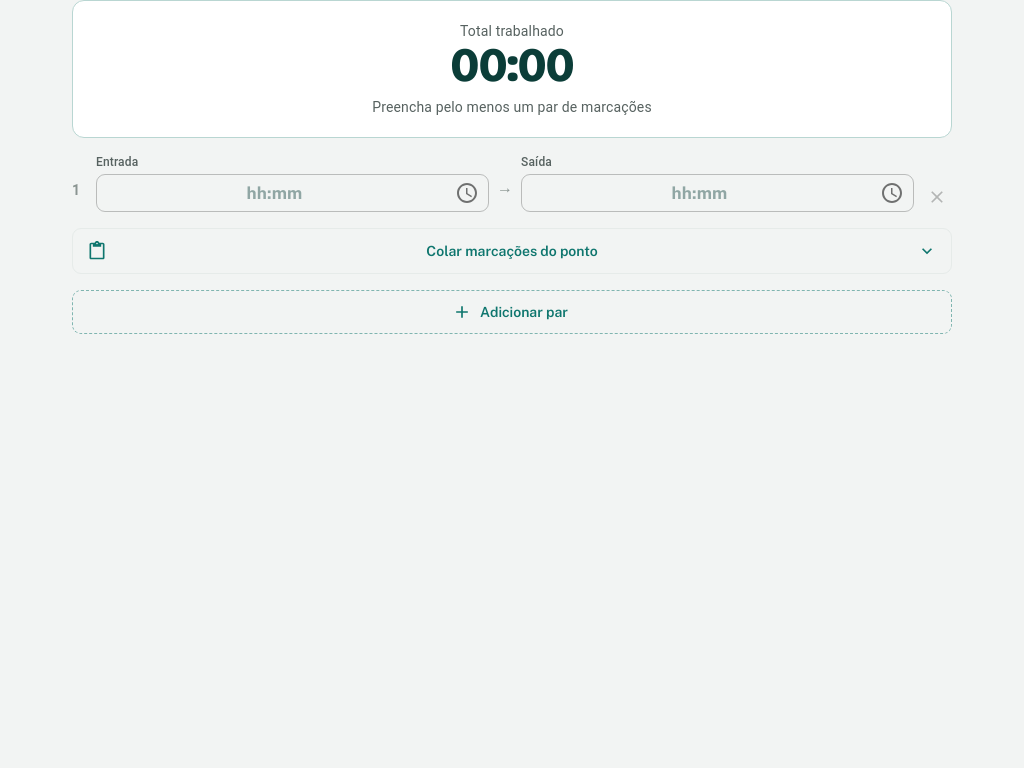
Test: TempoTotal › stops at six pairs
Click the button "Adicionar par" at (512, 312), box [72, 290, 952, 334]
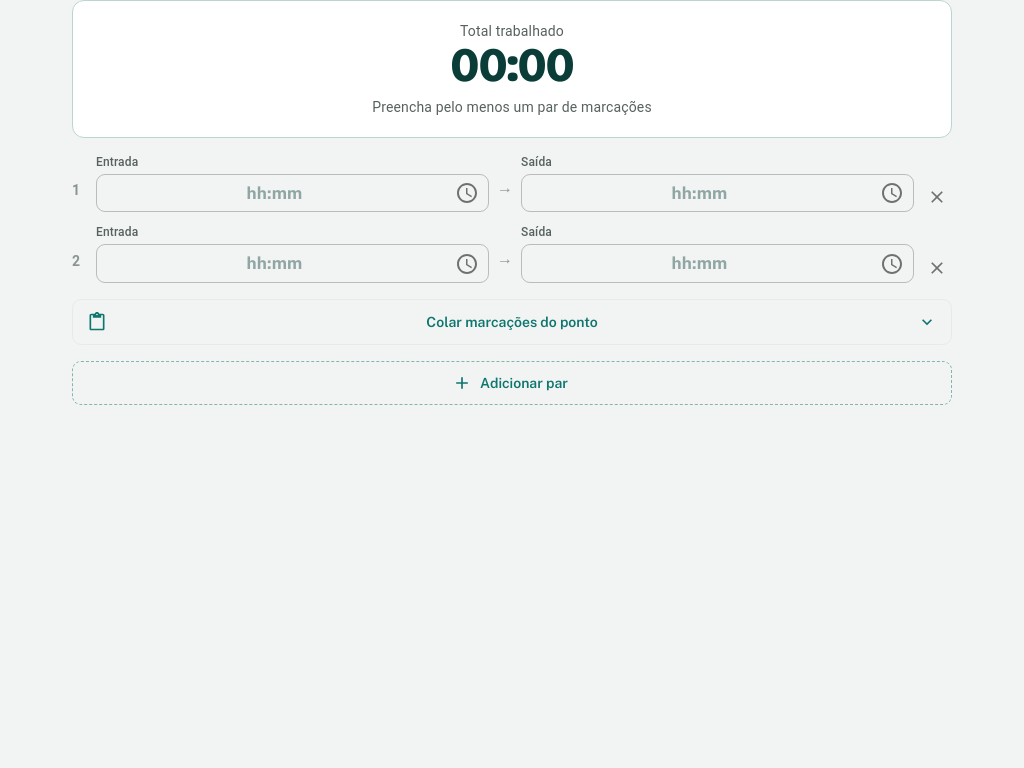
Click the button "Adicionar par" at (512, 383), box [72, 361, 952, 405]
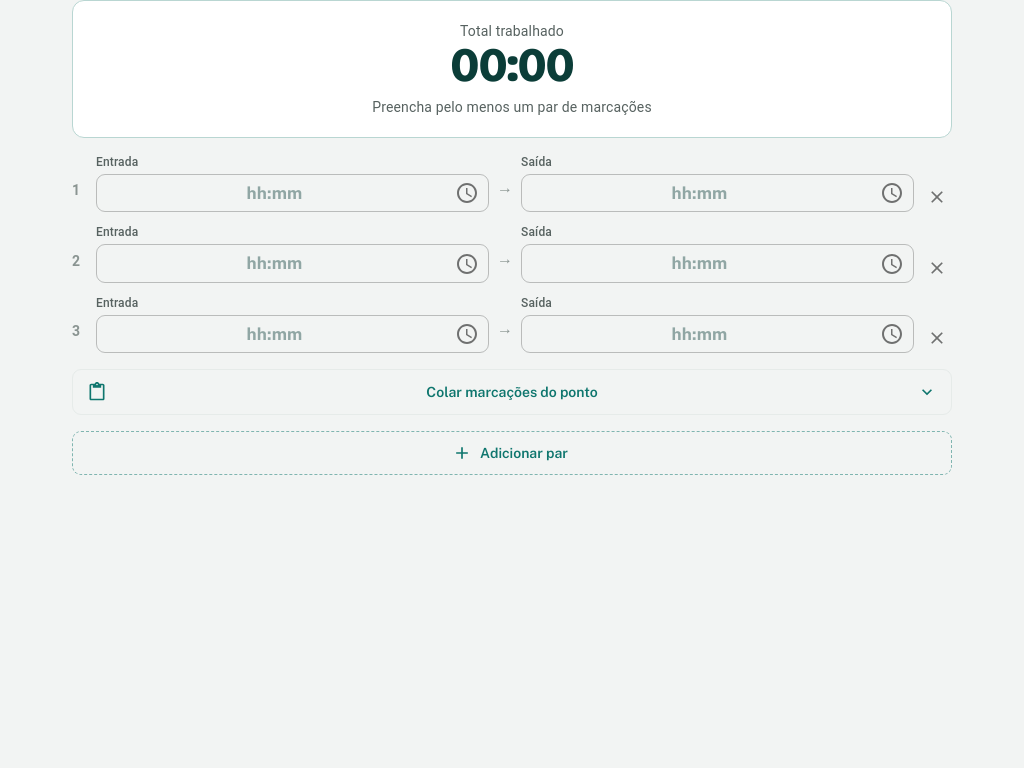
Click the button "Adicionar par" at (512, 453), box [72, 431, 952, 475]
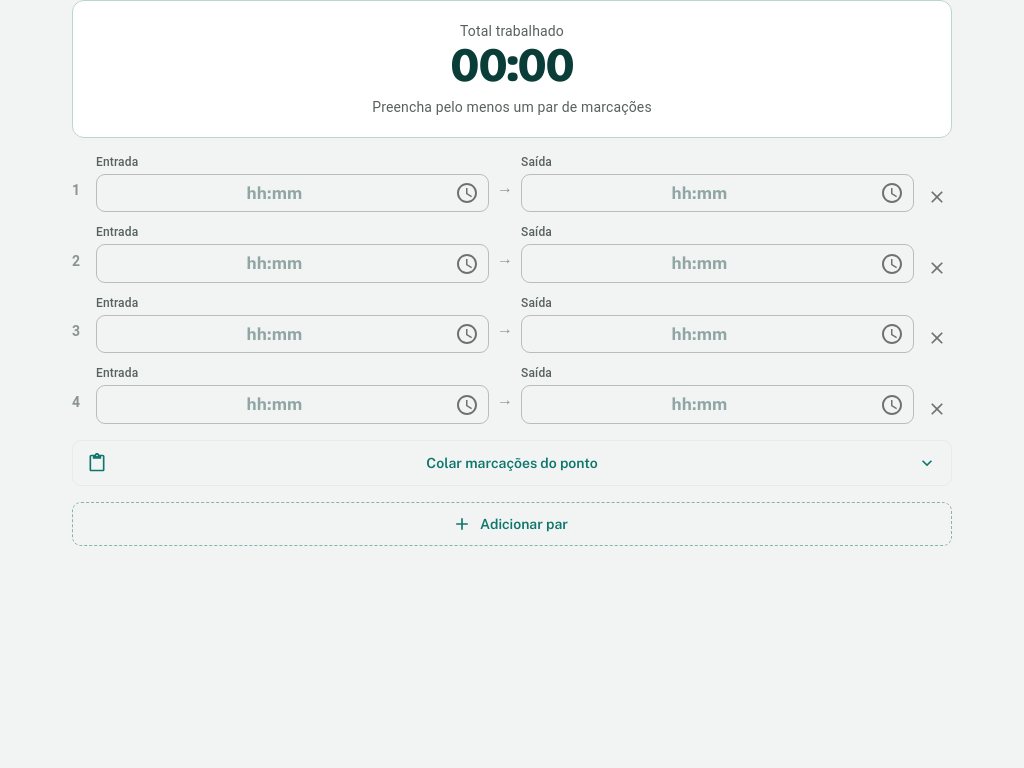
Click the button "Adicionar par" at (512, 524), box [72, 502, 952, 546]
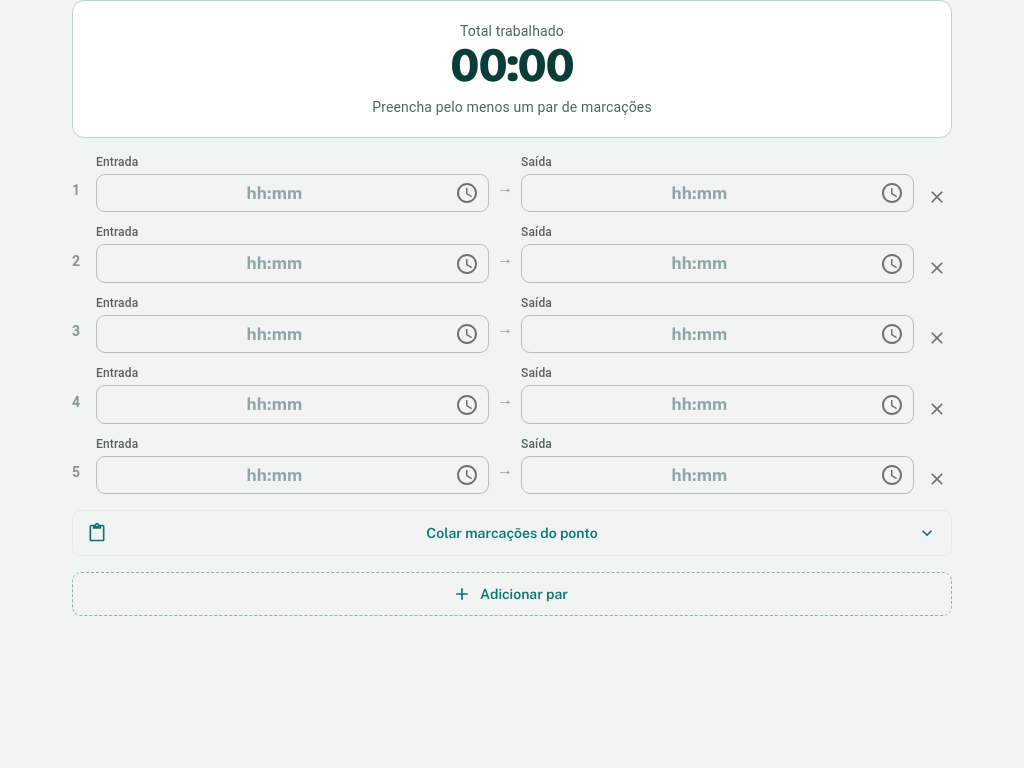
Click the button "Adicionar par" at (512, 594), box [72, 572, 952, 616]
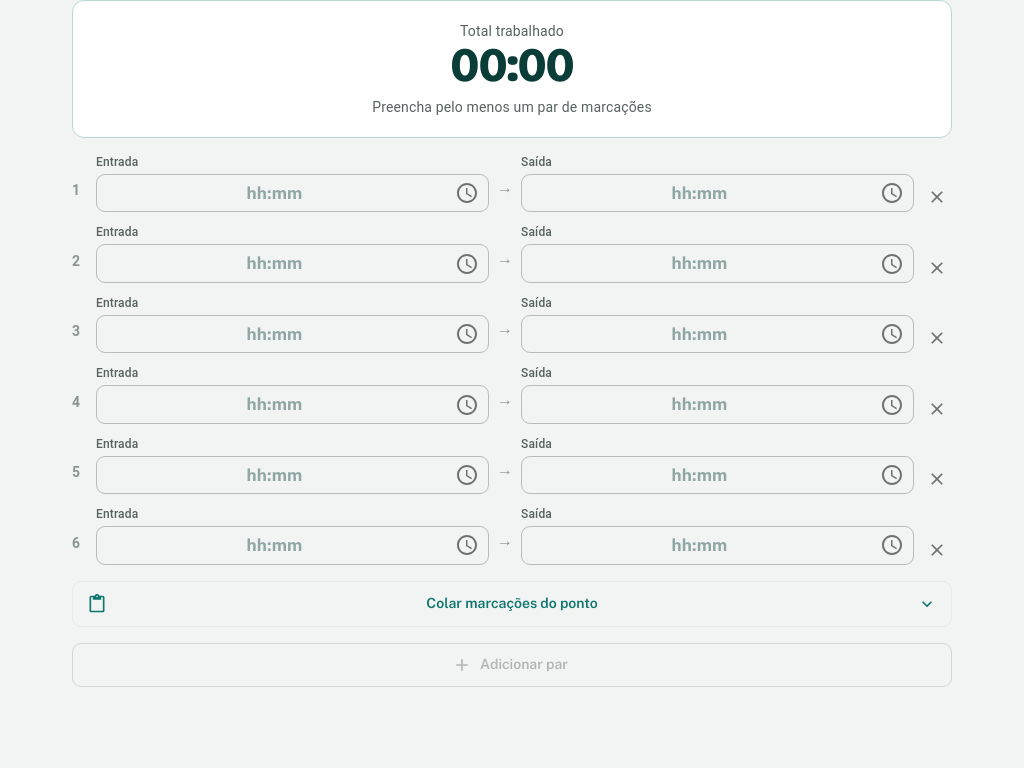
Expected: the number of elements named "Entrada" is 6, [96, 174, 489, 212]; [96, 244, 489, 283]; [96, 315, 489, 353]; [96, 385, 489, 424]; [96, 456, 489, 494]; [96, 526, 489, 565]
Expected: the button "Adicionar par" is disabled, [72, 643, 952, 687]
